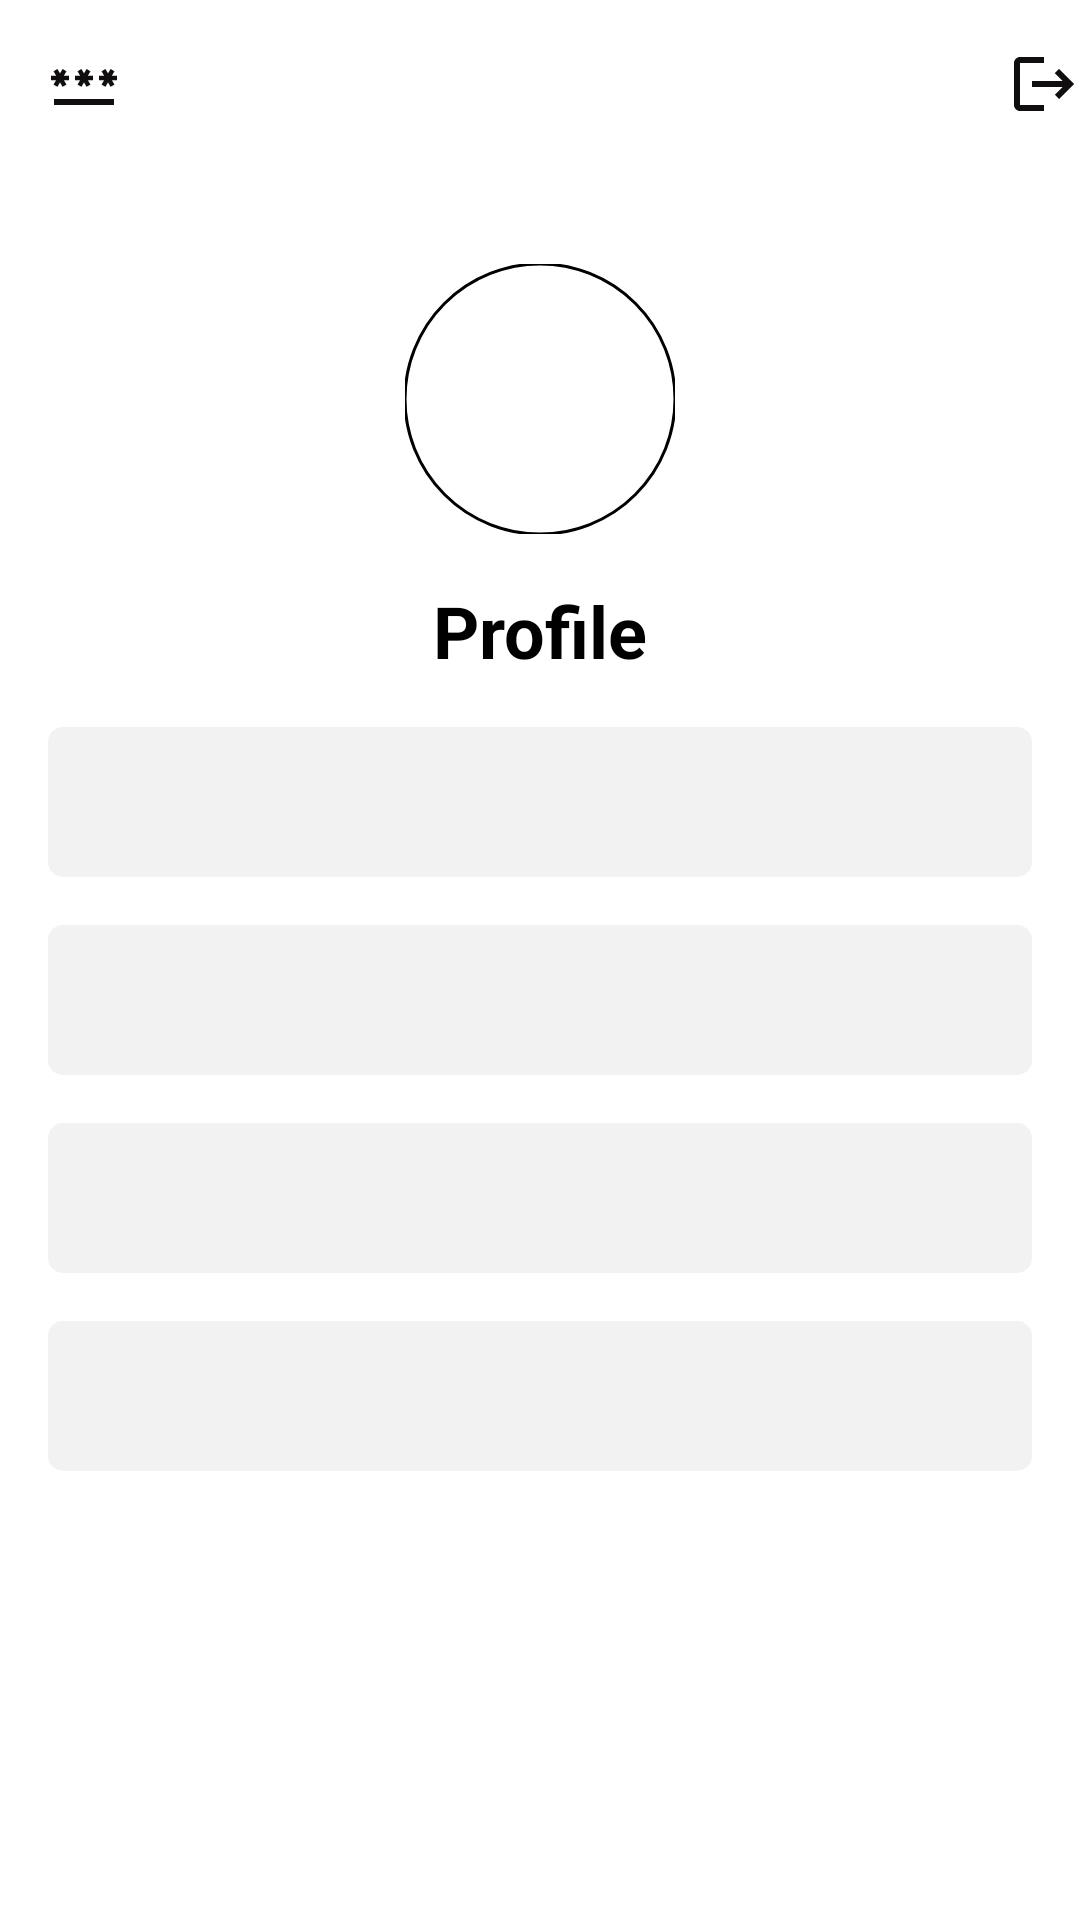

Point at icon controls on the screen. Image size 1080x1920, points as (x,y).
password: (84,87)
